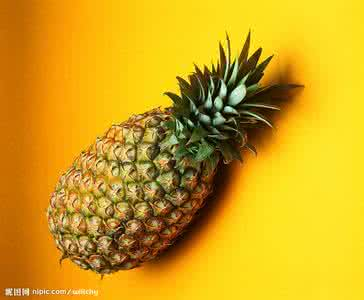pineapple: (46, 42, 272, 275)
